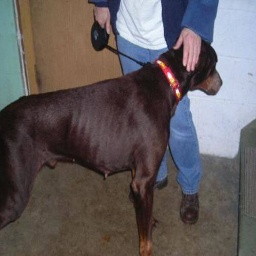dog: (1, 39, 223, 249)
